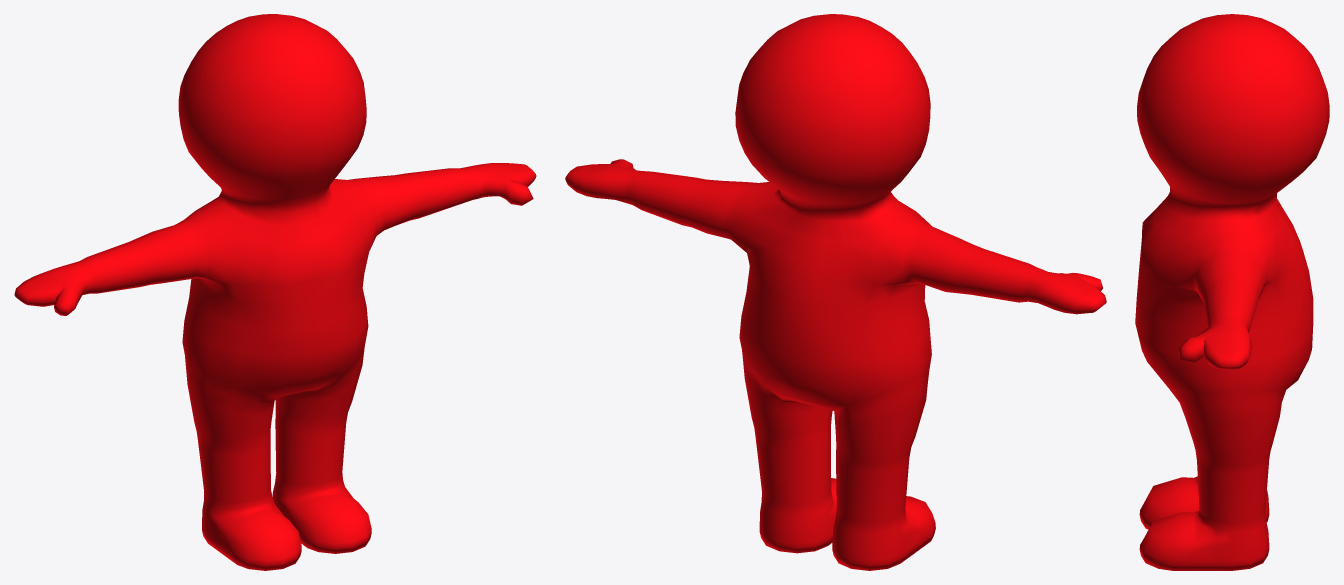
The model's file is Enemy Stickman 1.fbx.
The picture shows the model from 3 angles, left to right: view 1: azimuth 30°, elevation 25°; view 2: azimuth 150°, elevation 25°; view 3: azimuth 270°, elevation 25°; orthographic projection. The views are drawn at different scales.
Parts seen in each view (by area): view 1: Boss_Gang; view 2: Boss_Gang; view 3: Boss_Gang.
Part boxes in pixels (x1,y1,x2,y2): Boss_Gang: (14,14,536,570); Boss_Gang: (565,14,1106,570); Boss_Gang: (1135,14,1329,570).
Bounding box in the file's own units: 236 × 221 × 75.35.
